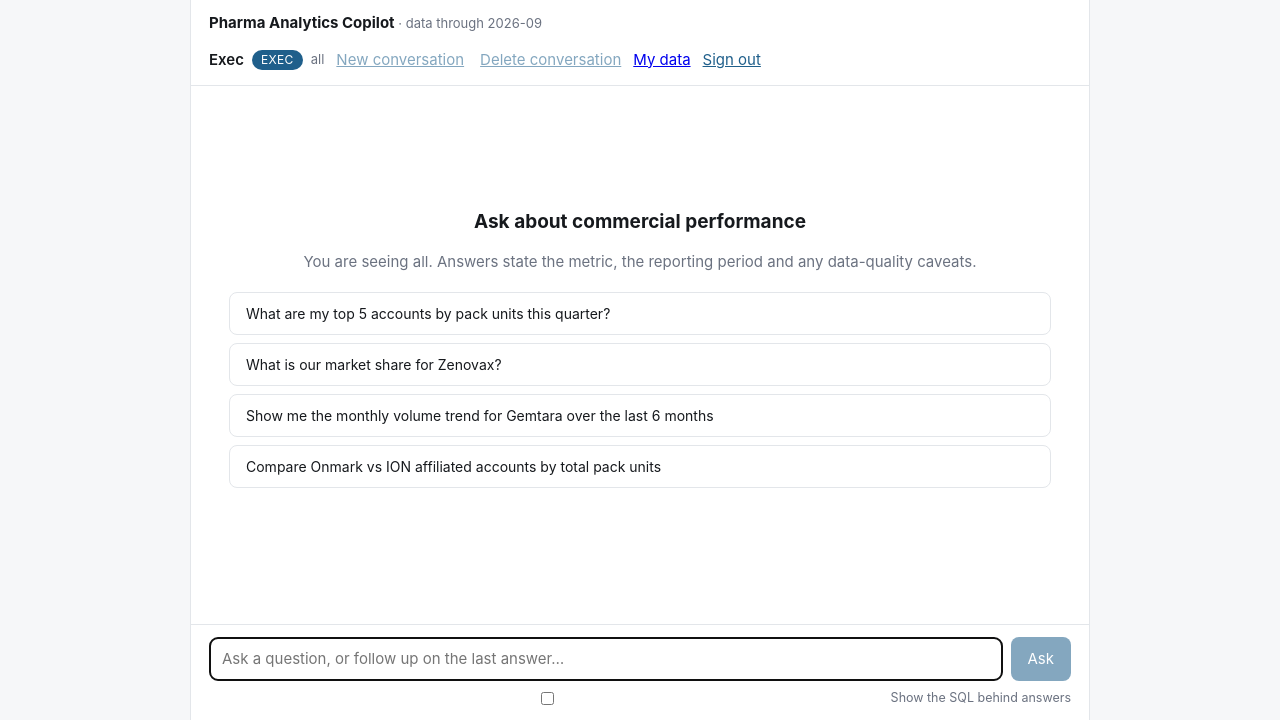
it: API v2 in the interface › resends the same key after a dropped connection
The image size is (1280, 720).
Expected: the button "New conversation" is shown, left=332, top=46, right=468, bottom=73
Step 1. Type "total volume" into the field with placeholder "Ask a question, or follow up on the last answer…" → (606, 659), box left=209, top=636, right=1002, bottom=681
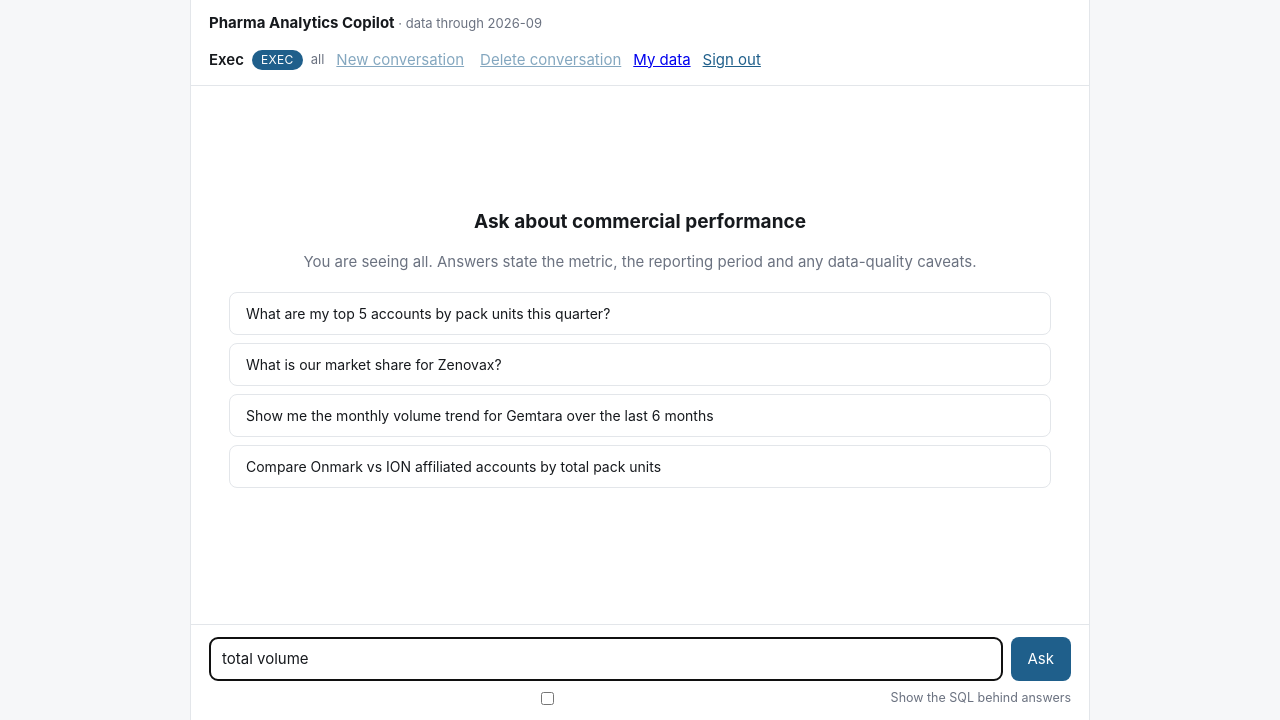
Step 2. Click the button "Ask" → (1041, 659), box left=1010, top=636, right=1071, bottom=681
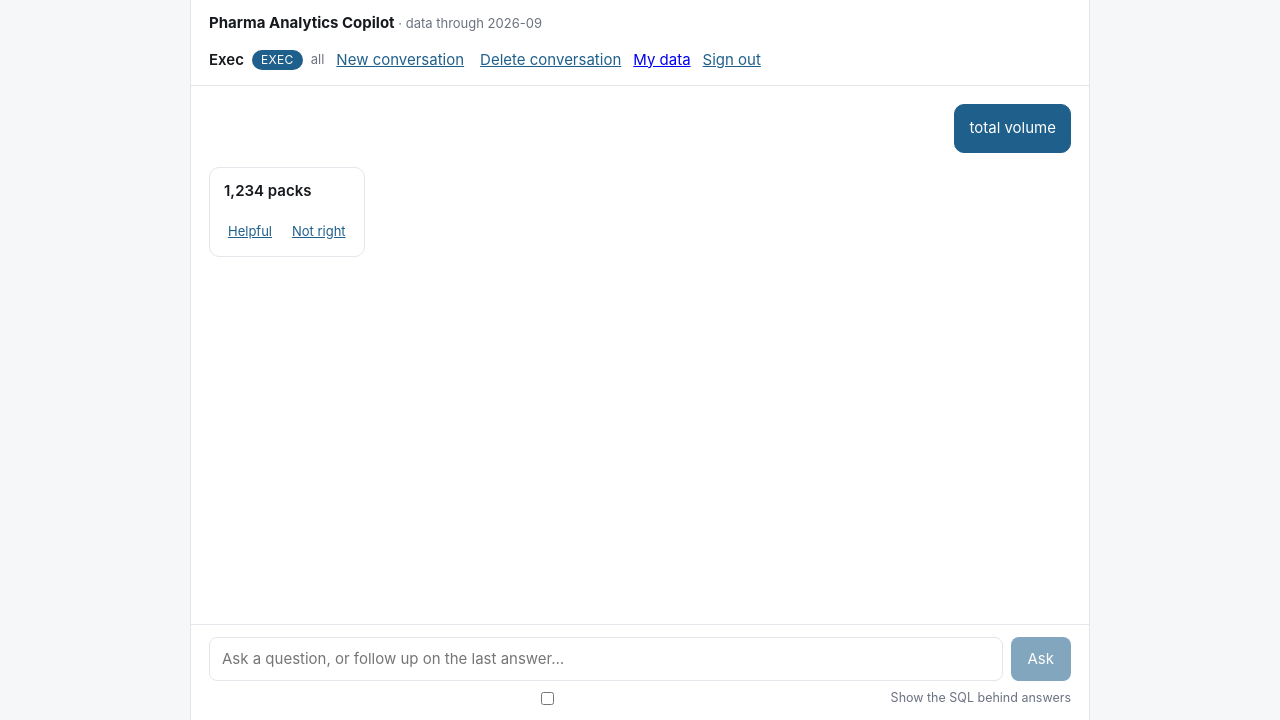
Now the text "1,234 packs" is shown, box left=224, top=180, right=311, bottom=200
